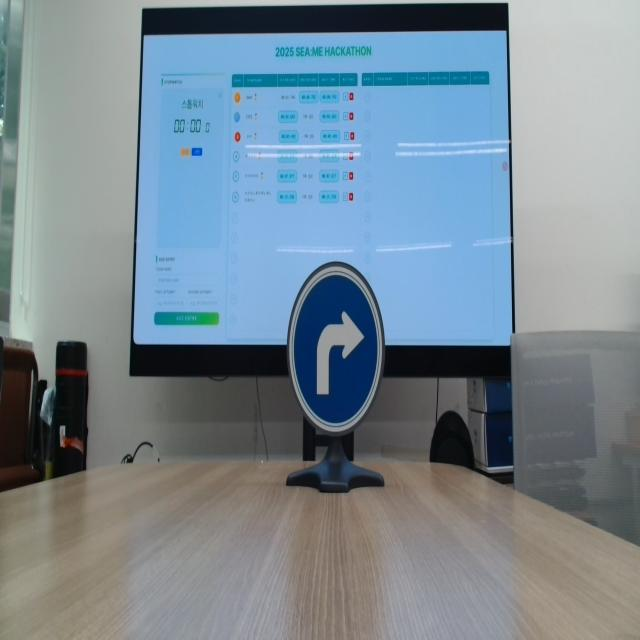right_dierection: (286, 257, 387, 437)
